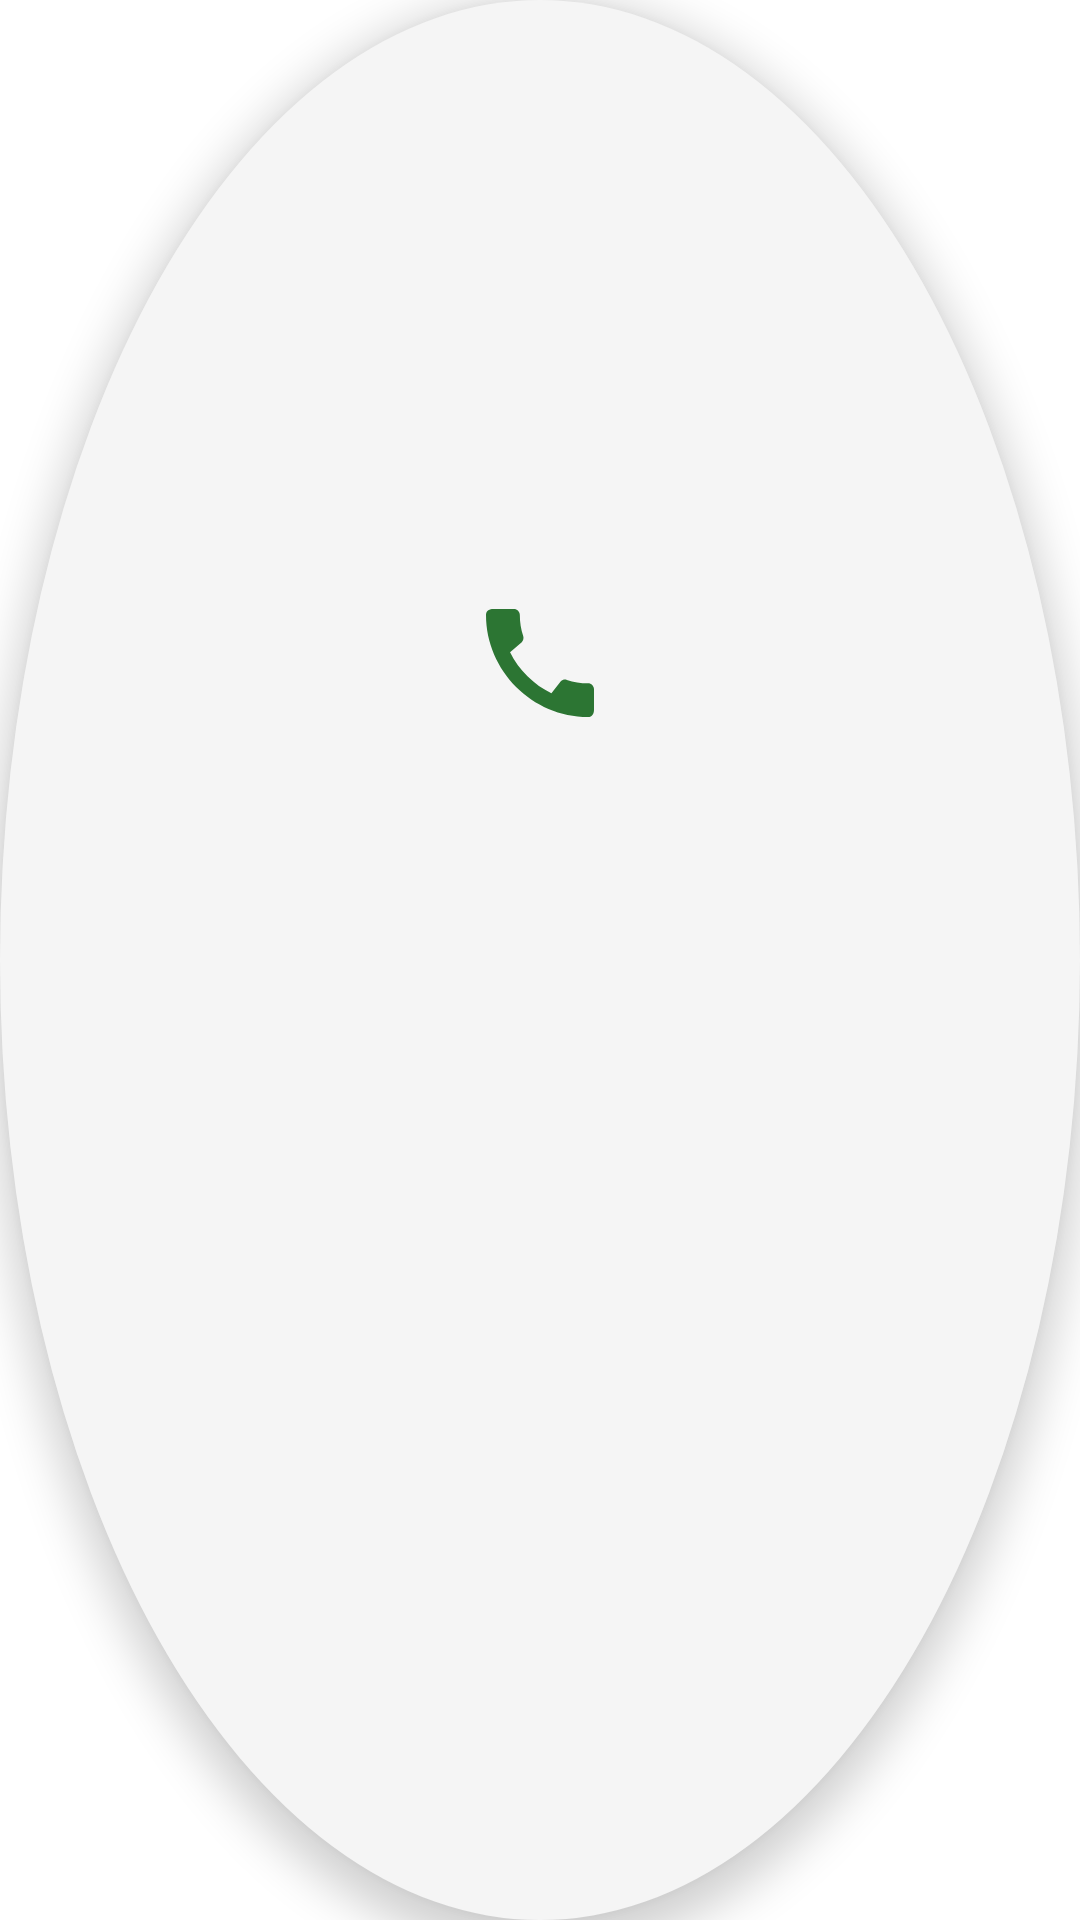

Icons on this 1080*1920 Android screen, each with the point to tap as (x=x, y=y):
call: (x=540, y=663)
